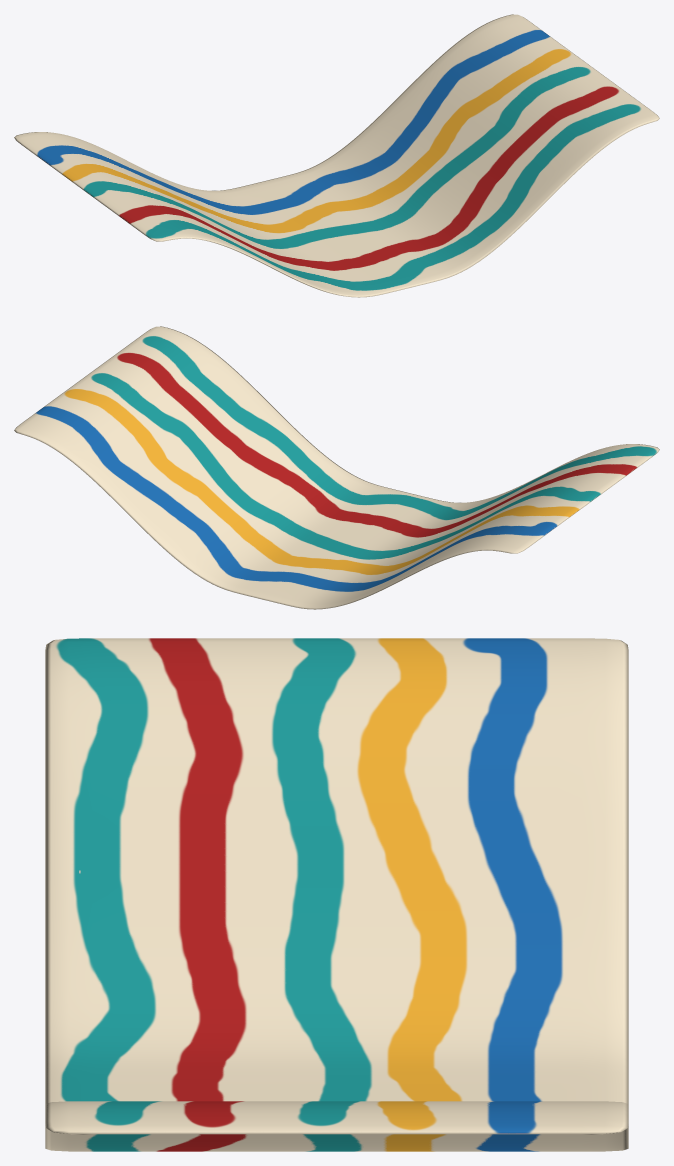
Rendered from hamaca.glb.
3 views of the same model, one above another, from view 1: azimuth 30°, elevation 25°; view 2: azimuth 150°, elevation 25°; view 3: azimuth 270°, elevation 25° (orthographic). The views are drawn at different scales.
Parts seen in each view (by area): view 1: Plano subdividido; view 2: Plano subdividido; view 3: Plano subdividido.
Boxes of the visible parts, left/top/right/bottom form: Plano subdividido: left=14, top=14, right=659, bottom=297; Plano subdividido: left=14, top=326, right=659, bottom=609; Plano subdividido: left=45, top=638, right=628, bottom=1151.
Bounding box in the file's own units: 2 × 0.4097 × 0.9931.
1 material, 1 textured.
